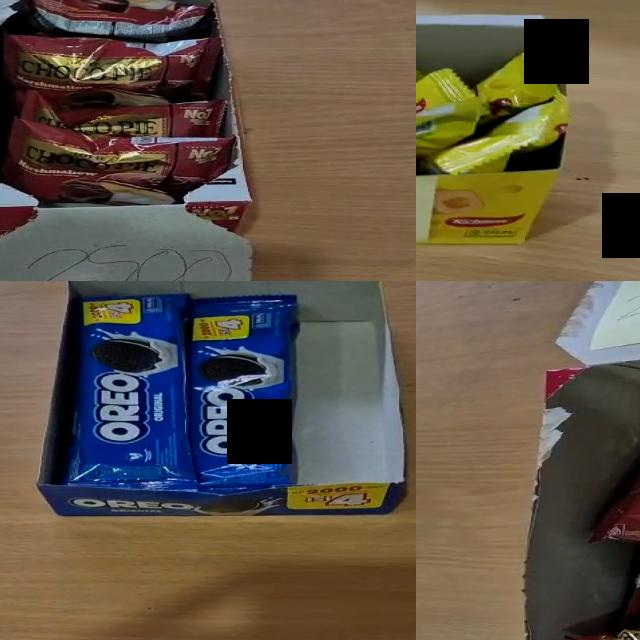Ahh: (419, 95, 571, 175), (416, 67, 486, 175), (474, 50, 565, 124)
Chocopie: (1, 117, 238, 205), (3, 33, 224, 117), (20, 88, 226, 139), (20, 0, 212, 44)
Oreo: (63, 292, 197, 488), (183, 294, 300, 493)
